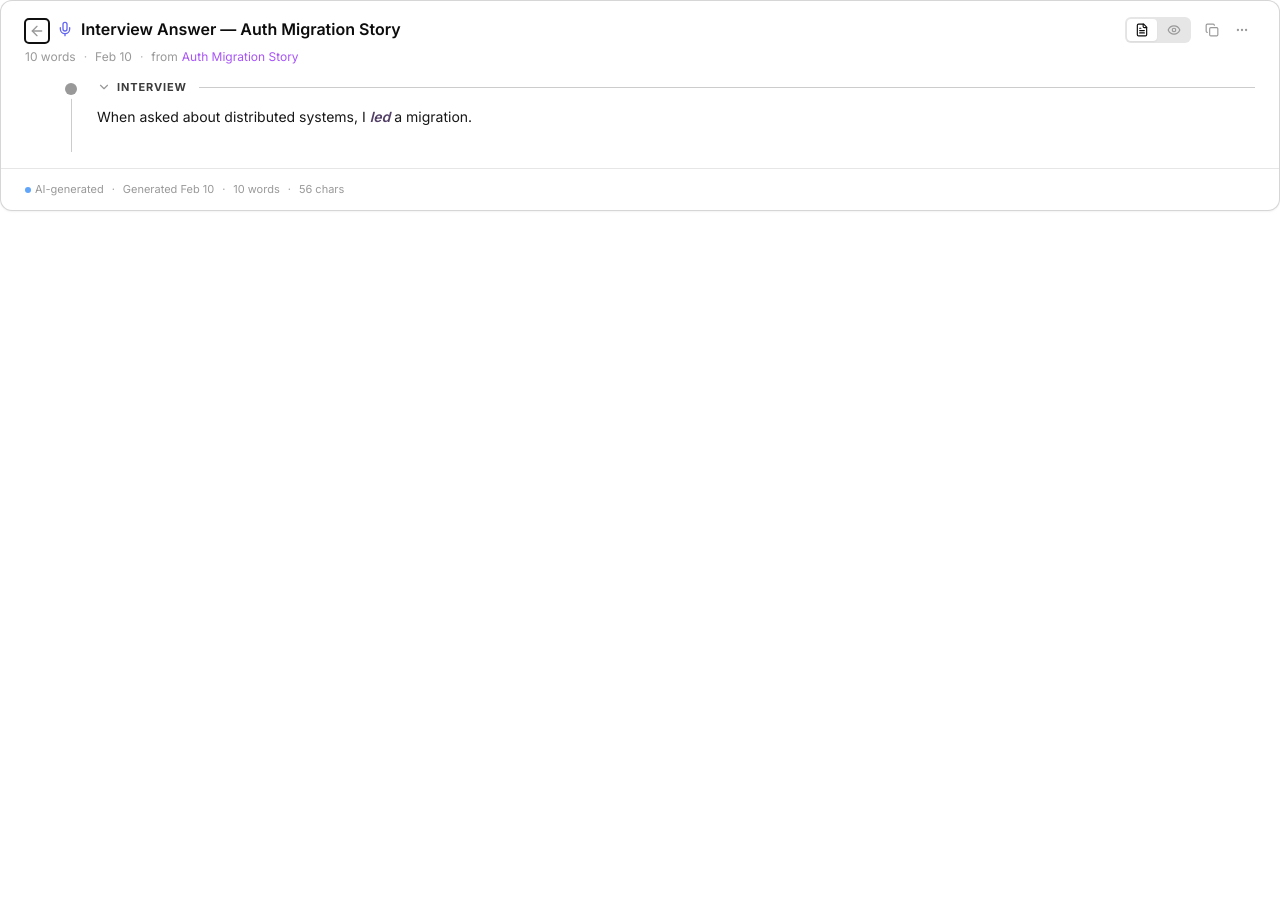
Test case: LibraryDetail › shows delete confirmation dialog on Delete click
Open dropdown
Click the button named "More actions" at x=1242, y=30, box [1229,17,1255,43]
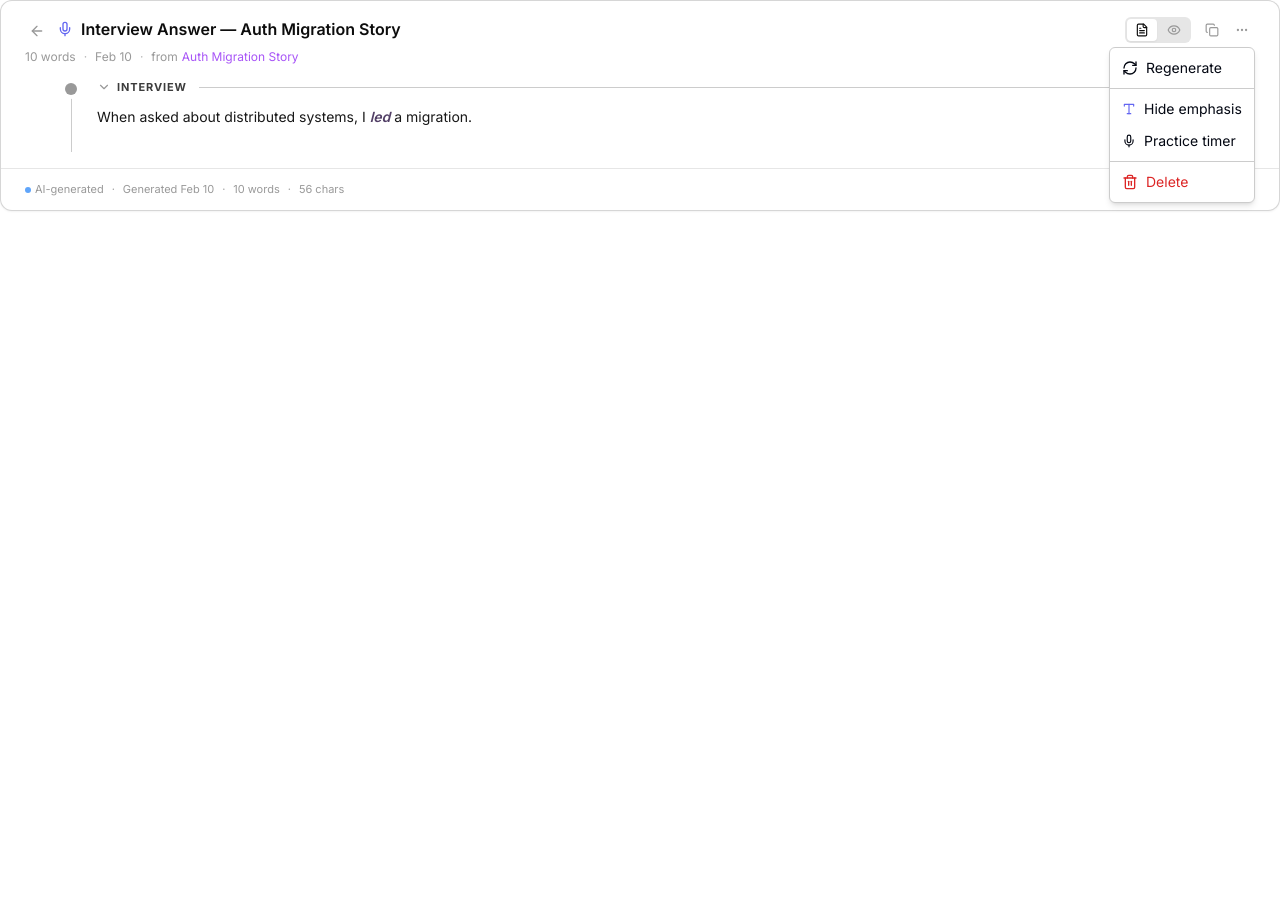
Click delete
Click the menu item "Delete" at x=1155, y=182, box [1122,173,1188,190]
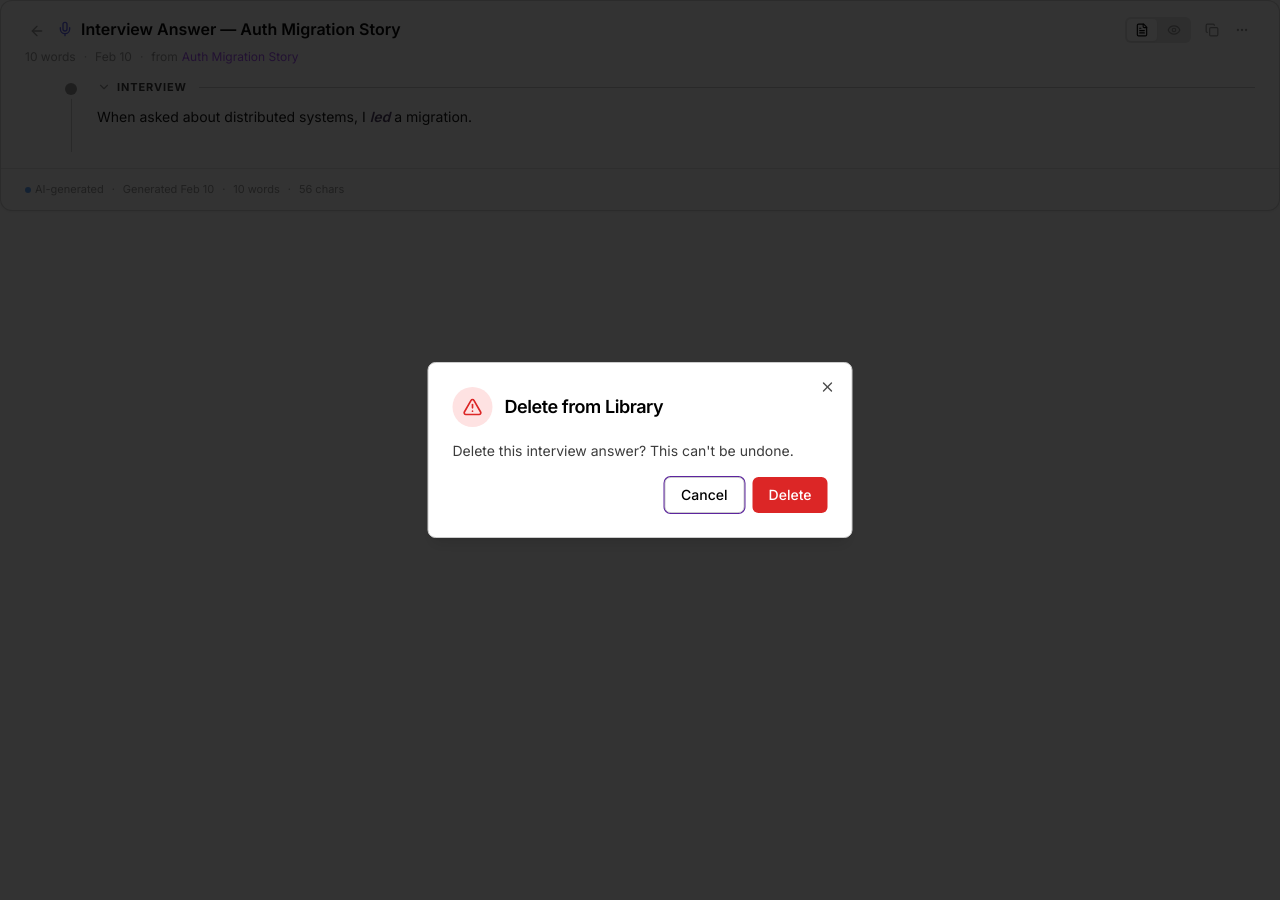
Expected: the heading "Delete from Library" is shown, [504,398,663,416]
Expected: the text "Delete this interview answer? This can't be undone." is shown, [452,433,828,461]
